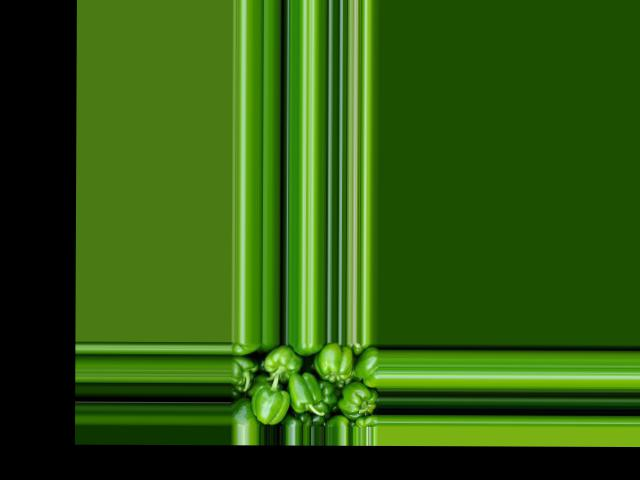bell_pepper: (230, 398, 263, 426)
